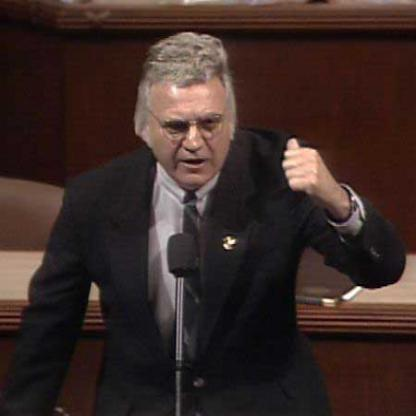face: (150, 43, 236, 187)
